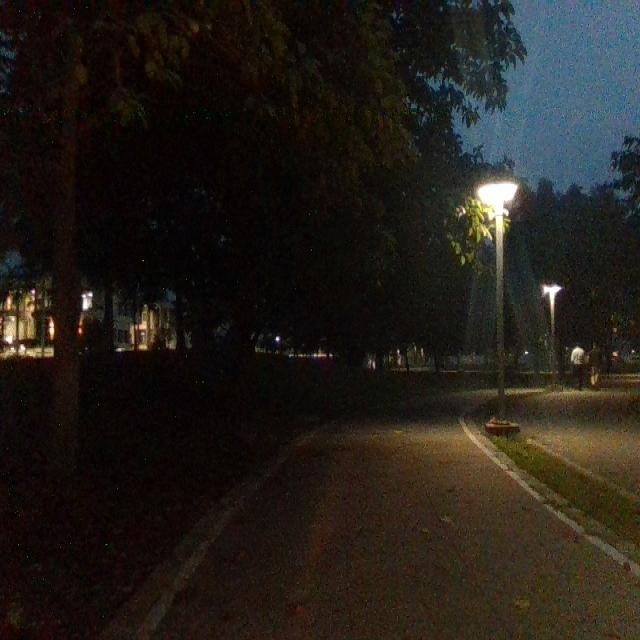lane: (153, 387, 637, 638)
